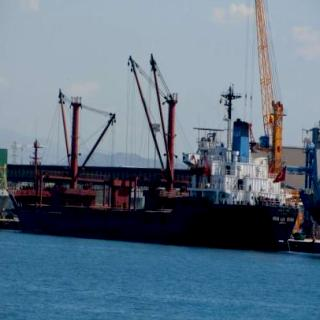Bulk Carrier: (10, 51, 312, 240)
